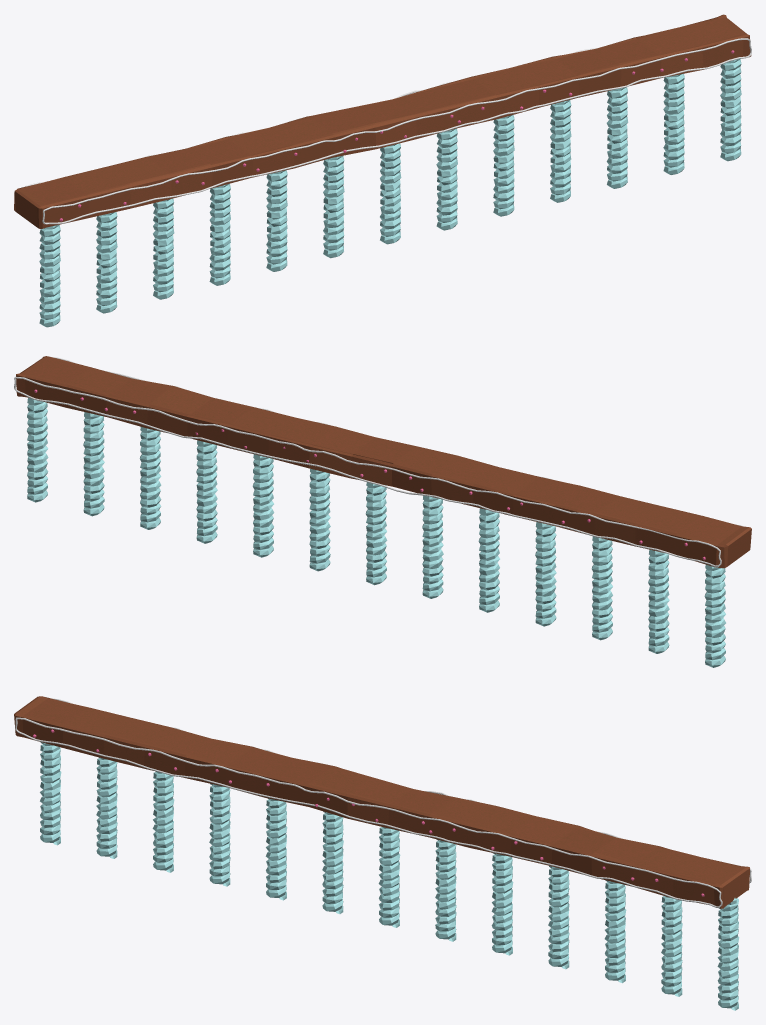
Rendered from Balustrada.fbx.
The picture shows the model from 3 angles, top to bottom: view 1: azimuth 30°, elevation 25°; view 2: azimuth 150°, elevation 25°; view 3: azimuth 330°, elevation 25°; orthographic projection.
Parts seen in each view (by area): view 1: Cube.001, Balustrada, BézierCurve; view 2: Cube.001, Balustrada, BézierCurve; view 3: Cube.001, Balustrada, BézierCurve.
Part boxes in pixels (x1,y1,x2,y2): Cube.001: [14, 14, 751, 228]; Balustrada: [39, 58, 741, 327]; BézierCurve: [24, 17, 751, 224]; Cube.001: [16, 356, 751, 568]; Balustrada: [27, 397, 725, 667]; BézierCurve: [14, 357, 744, 567]; Cube.001: [14, 696, 749, 908]; Balustrada: [40, 742, 739, 1010]; BézierCurve: [15, 698, 751, 907].
Size of the model in its own units: 3054 by 555 by 224.
Materials: 3 (1 with a texture image).
